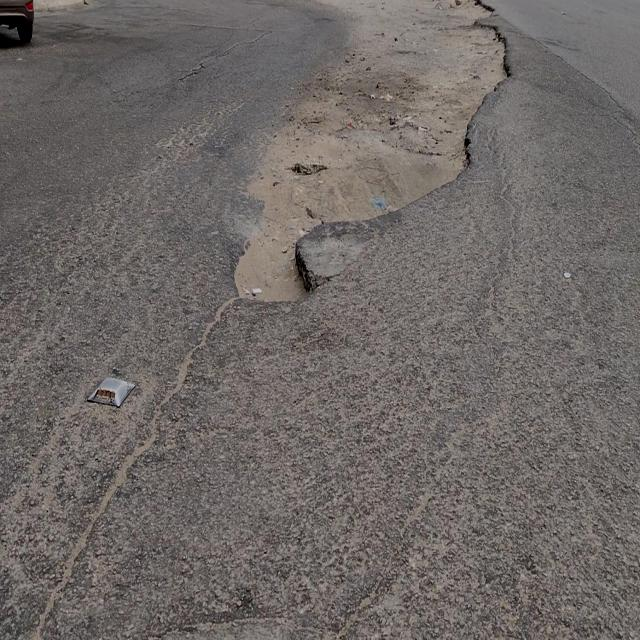Potholes: (231, 236, 317, 310), (411, 104, 473, 197), (476, 29, 510, 94), (464, 17, 492, 35)
